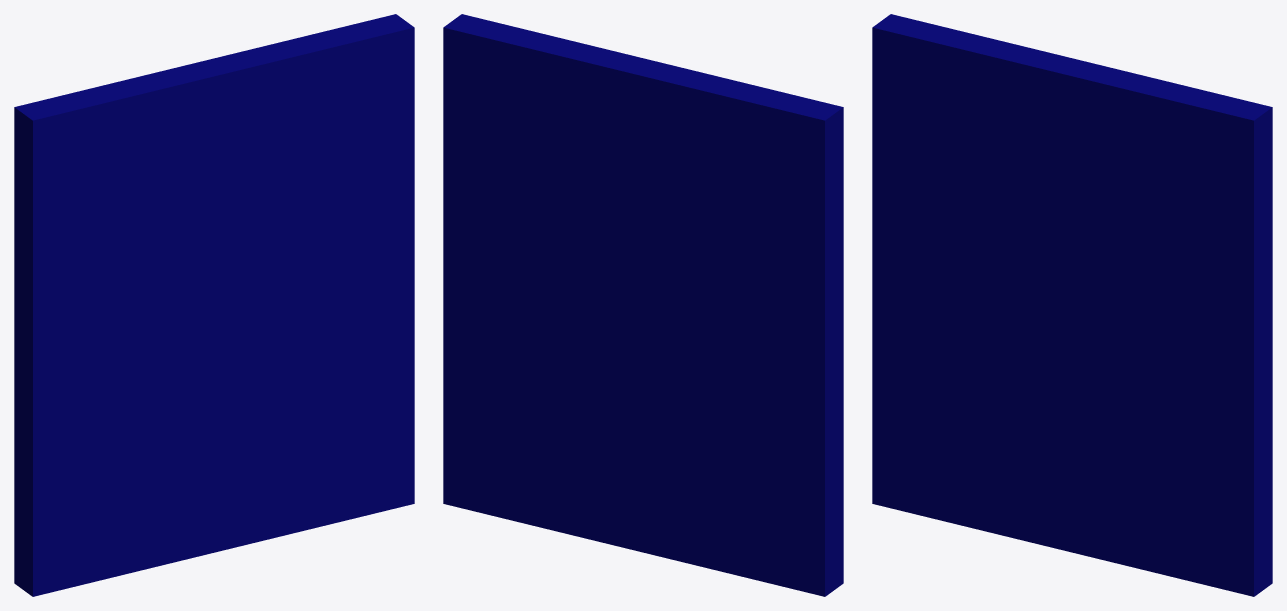
The model's file is door_blue.glb.
3 views of the same model, side by side, from view 1: azimuth 30°, elevation 25°; view 2: azimuth 150°, elevation 25°; view 3: azimuth 330°, elevation 25° (orthographic).
Visible parts, largest first — view 1: door_blue; view 2: door_blue; view 3: door_blue.
Boxes of the visible parts, bbox=[...] form: door_blue: bbox=[14, 14, 414, 596]; door_blue: bbox=[443, 14, 843, 596]; door_blue: bbox=[872, 14, 1272, 596].
Size of the model in its own units: 2.38 by 2.84 by 0.2.
1 material, 1 textured.
